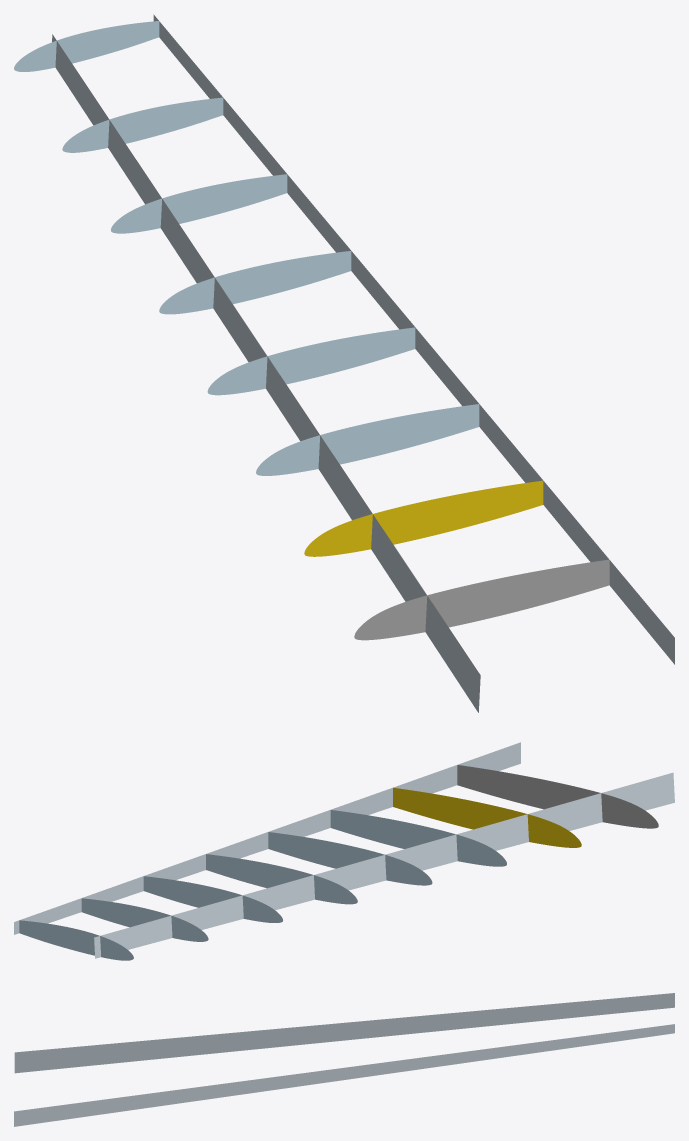
File: WING.gltf
3 renders of one model, top to bottom at view 1: azimuth 30°, elevation 25°; view 2: azimuth 150°, elevation 25°; view 3: azimuth 270°, elevation 25°, orthographic. The views are drawn at different scales.
Parts seen in each view (by area): view 1: spar_fwd, spar_aft, root_af, rib_1, Surface 5, Surface 6, Surface 7, Surface 8, Surface 9, Surface 10; view 2: spar_fwd, spar_aft, root_af, rib_1, Surface 5, Surface 6, Surface 7, Surface 8, Surface 9, Surface 10; view 3: spar_fwd, spar_aft.
Part boxes in pixels (x1=…): spar_fwd: x1=52, y1=34, x2=480, y2=712; spar_aft: x1=153, y1=14, x2=674, y2=664; root_af: x1=354, y1=559, x2=609, y2=640; rib_1: x1=304, y1=480, x2=543, y2=556; Surface 5: x1=256, y1=404, x2=479, y2=475; Surface 6: x1=207, y1=327, x2=415, y2=395; Surface 7: x1=159, y1=251, x2=351, y2=314; Surface 8: x1=111, y1=174, x2=287, y2=233; Surface 9: x1=62, y1=97, x2=223, y2=152; Surface 10: x1=14, y1=21, x2=159, y2=71; spar_fwd: x1=94, y1=772, x2=674, y2=958; spar_aft: x1=14, y1=742, x2=520, y2=934; root_af: x1=457, y1=765, x2=658, y2=828; rib_1: x1=393, y1=787, x2=581, y2=847; Surface 5: x1=330, y1=810, x2=506, y2=866; Surface 6: x1=268, y1=832, x2=432, y2=885; Surface 7: x1=206, y1=854, x2=357, y2=904; Surface 8: x1=143, y1=876, x2=282, y2=922; Surface 9: x1=81, y1=898, x2=208, y2=941; Surface 10: x1=19, y1=920, x2=133, y2=960; spar_fwd: x1=14, y1=993, x2=674, y2=1073; spar_aft: x1=14, y1=1024, x2=674, y2=1126.
Size of the model in its own units: 1.94 by 1.31 by 6.36.
